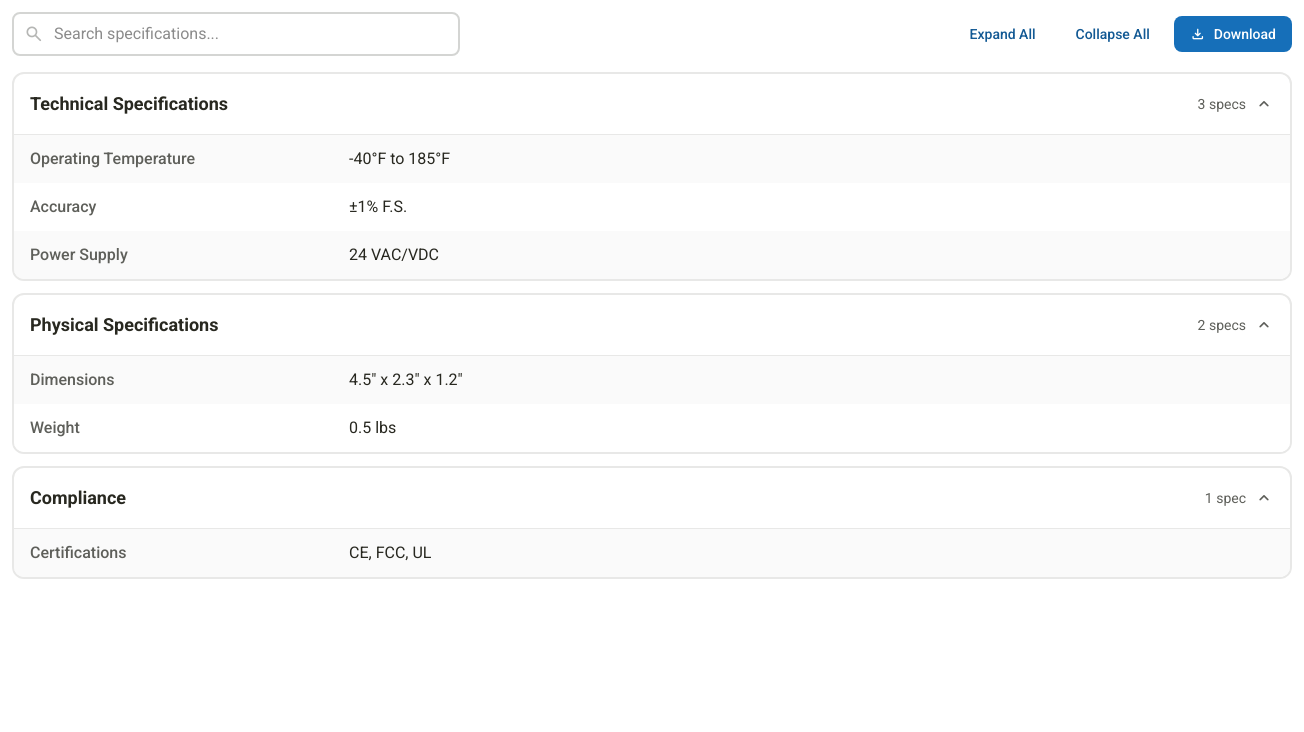
Test: ProductSpecifications Component › Group Expansion/Collapse › expands collapsed group when header is clicked again
Click the heading "Technical Specifications" at point(129, 104), box [30,90,228,118]
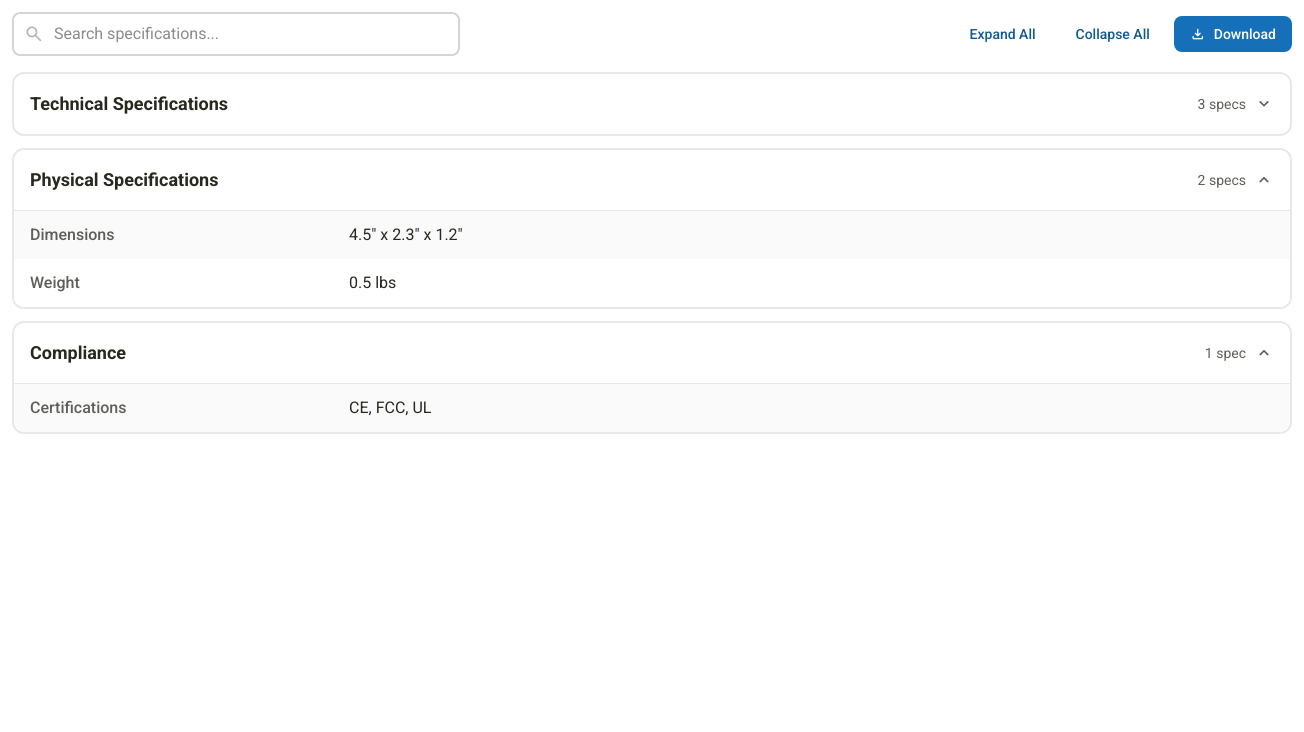
Expected: the text "Operating Temperature" is gone
Click the heading "Technical Specifications" at point(129, 104), box [30,90,228,118]
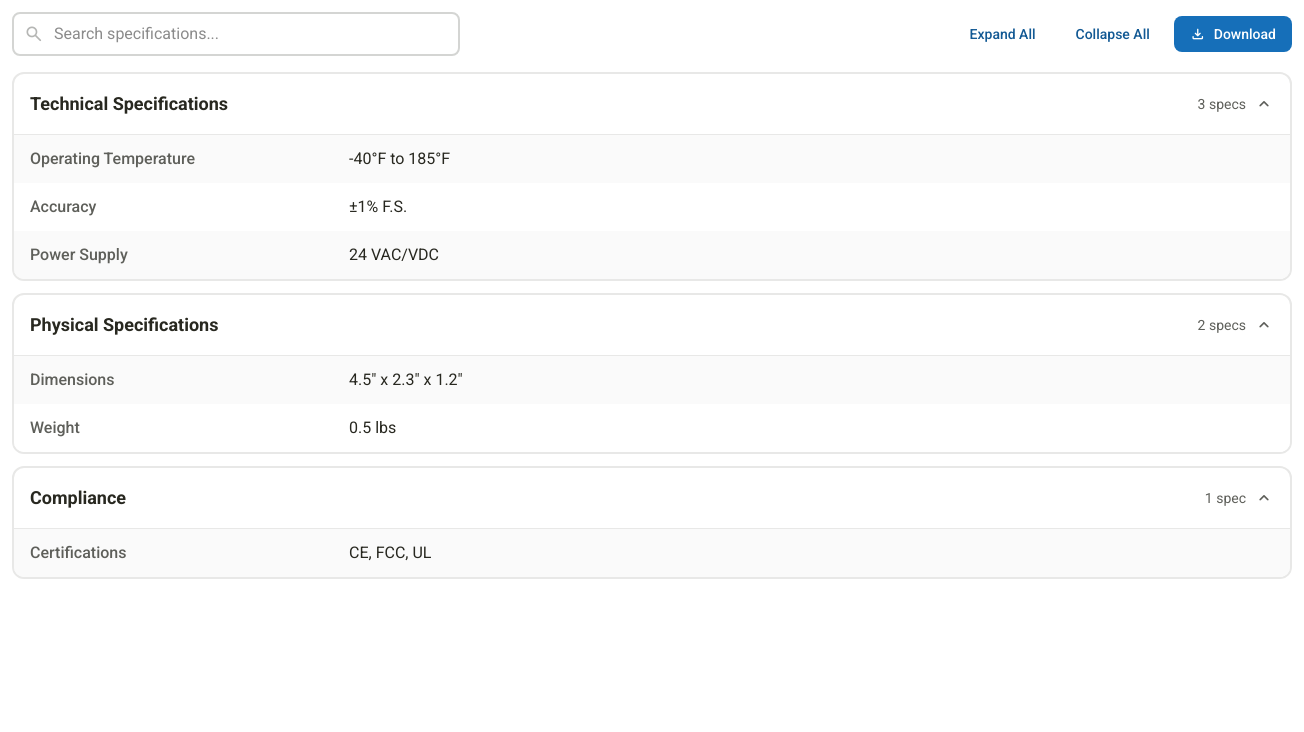
Expected: the text "Operating Temperature" is shown, [14,135,333,183]
